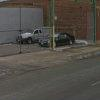Car: (37, 28, 75, 51)
